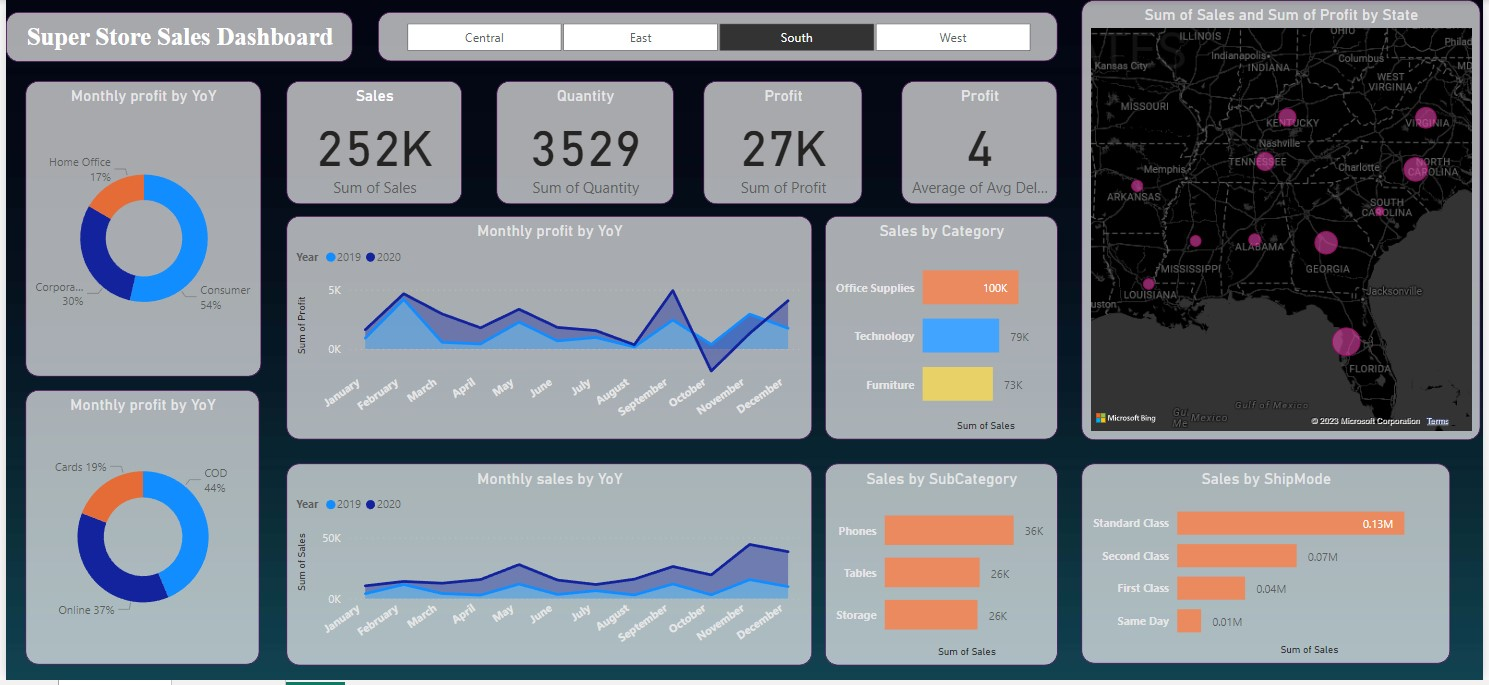

The dashboard page shown, as its layout file describes it:
{"tool":"powerbi","page":{"name":"Page 1","canvas":[1600,736],"ordinal":0},"visuals":[{"type":"clusteredBarChart","title":"Sales by Category","fields":{"Category":["SuperStore_Sales_Dataset.Category"],"Y":["Sum(SuperStore_Sales_Dataset.Sales)"]},"box":[887.2,234.4,251.8,242.1],"z":0},{"type":"card","title":"Sales","fields":{"Values":["Sum(SuperStore_Sales_Dataset.Sales)"]},"box":[303.8,87.7,190.1,133.2],"z":2},{"type":"stackedAreaChart","title":"Monthly sales by YoY","fields":{"Category":["SuperStore_Sales_Dataset.Order Date.Variation.Date Hierarchy.Month","SuperStore_Sales_Dataset.Order Date.Variation.Date Hierarchy.Day"],"Y":["Sum(SuperStore_Sales_Dataset.Sales)"],"Series":["SuperStore_Sales_Dataset.Order Date.Variation.Date Hierarchy.Year"]},"box":[304.1,501.7,569.5,218.9],"z":3},{"type":"stackedAreaChart","title":"Monthly profit by YoY","fields":{"Category":["SuperStore_Sales_Dataset.Order Date.Variation.Date Hierarchy.Month","SuperStore_Sales_Dataset.Order Date.Variation.Date Hierarchy.Day"],"Series":["SuperStore_Sales_Dataset.Order Date.Variation.Date Hierarchy.Year"],"Y":["Sum(SuperStore_Sales_Dataset.Profit)"]},"box":[304.1,234.4,569.5,242.1],"z":4},{"type":"clusteredBarChart","title":"Sales by SubCategory","fields":{"Y":["Sum(SuperStore_Sales_Dataset.Sales)"],"Category":["SuperStore_Sales_Dataset.Sub-Category"]},"box":[887.2,501.7,251.8,218.9],"z":5},{"type":"map","fields":{"Category":["SuperStore_Sales_Dataset.State"],"Size":["Sum(SuperStore_Sales_Dataset.Sales)"]},"box":[1164.2,0,432,476.5],"z":6},{"type":"donutChart","title":"Monthly profit by YoY","fields":{"Category":["SuperStore_Sales_Dataset.Segment"],"Y":["Sum(SuperStore_Sales_Dataset.Sales)"]},"box":[21.1,87.7,255.1,320.1],"z":7},{"type":"donutChart","title":"Monthly profit by YoY","fields":{"Y":["Sum(SuperStore_Sales_Dataset.Sales)"],"Category":["SuperStore_Sales_Dataset.Payment Mode"]},"box":[21.1,422.4,253.5,297.3],"z":8},{"type":"slicer","fields":{"Values":["SuperStore_Sales_Dataset.Region"]},"box":[402.9,13,736,53.6],"z":9},{"type":"textbox","box":[0,12.7,375.1,54],"z":10},{"type":"card","title":"Quantity","fields":{"Values":["Sum(SuperStore_Sales_Dataset.Quantity)"]},"box":[531.3,87.7,191.7,133.2],"z":11},{"type":"card","title":"Profit","fields":{"Values":["Sum(SuperStore_Sales_Dataset.Profit)"]},"box":[755.5,87.7,172.2,133.2],"z":12},{"type":"card","title":"Profit","fields":{"Values":["Avg(SuperStore_Sales_Dataset.Avg Delivery)"]},"box":[970,87.7,169,133.2],"z":13},{"type":"clusteredBarChart","title":"Sales by ShipMode","fields":{"Y":["Sum(SuperStore_Sales_Dataset.Sales)"],"Category":["SuperStore_Sales_Dataset.Ship Mode"]},"box":[1164.2,501.7,399,216.9],"z":14}]}

Visuals, with their boxes in screenshot pixels (x1, y1, x2, y2), scaled from the page's 1600x736 canvas onto the 1489x685 screenshot:
"Sales by Category" clusteredBarChart: (826, 218, 1060, 443)
"Sales" card: (283, 82, 460, 206)
"Monthly sales by YoY" stackedAreaChart: (283, 467, 813, 671)
"Monthly profit by YoY" stackedAreaChart: (283, 218, 813, 443)
"Sales by SubCategory" clusteredBarChart: (826, 467, 1060, 671)
map - SuperStore_Sales_Dataset.State x Sum(SuperStore_Sales_Dataset.Sales): (1083, 0, 1485, 443)
"Monthly profit by YoY" donutChart: (20, 82, 257, 380)
"Monthly profit by YoY" donutChart: (20, 393, 256, 670)
slicer - SuperStore_Sales_Dataset.Region: (375, 12, 1060, 62)
textbox: (0, 12, 349, 62)
"Quantity" card: (494, 82, 673, 206)
"Profit" card: (703, 82, 863, 206)
"Profit" card: (903, 82, 1060, 206)
"Sales by ShipMode" clusteredBarChart: (1083, 467, 1455, 669)
